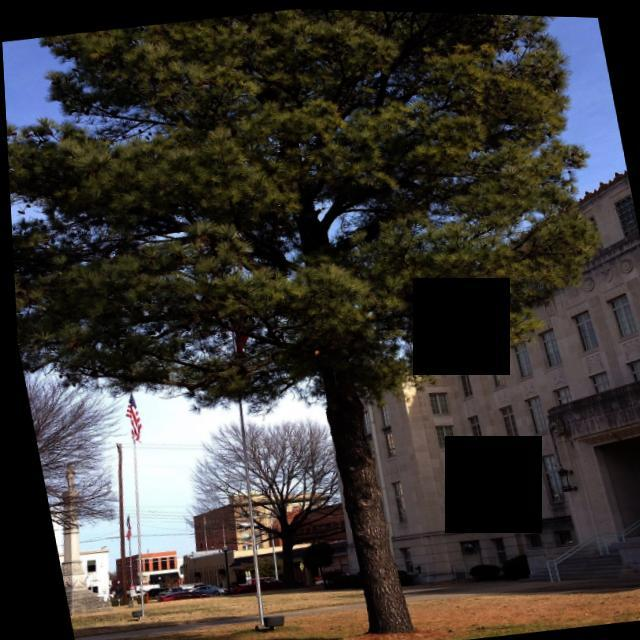Tree: (1, 1, 640, 640), (183, 402, 349, 598), (19, 354, 120, 550)
